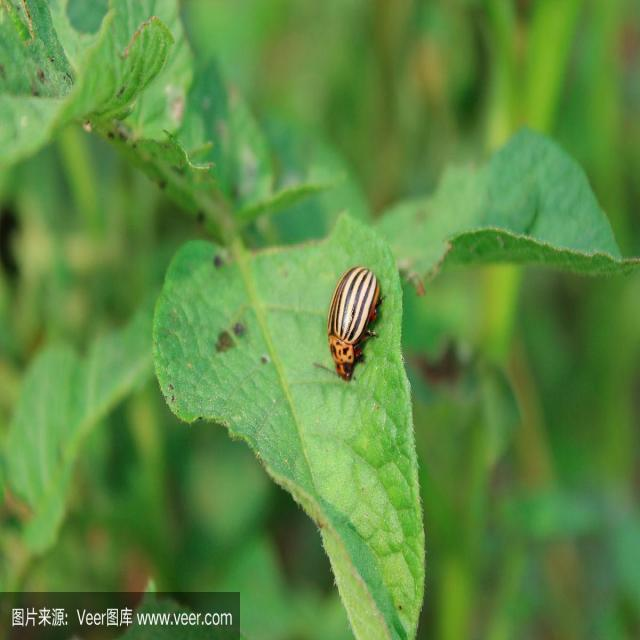ShuCaiHuaBanChong-Grown-: (317, 254, 387, 384)
